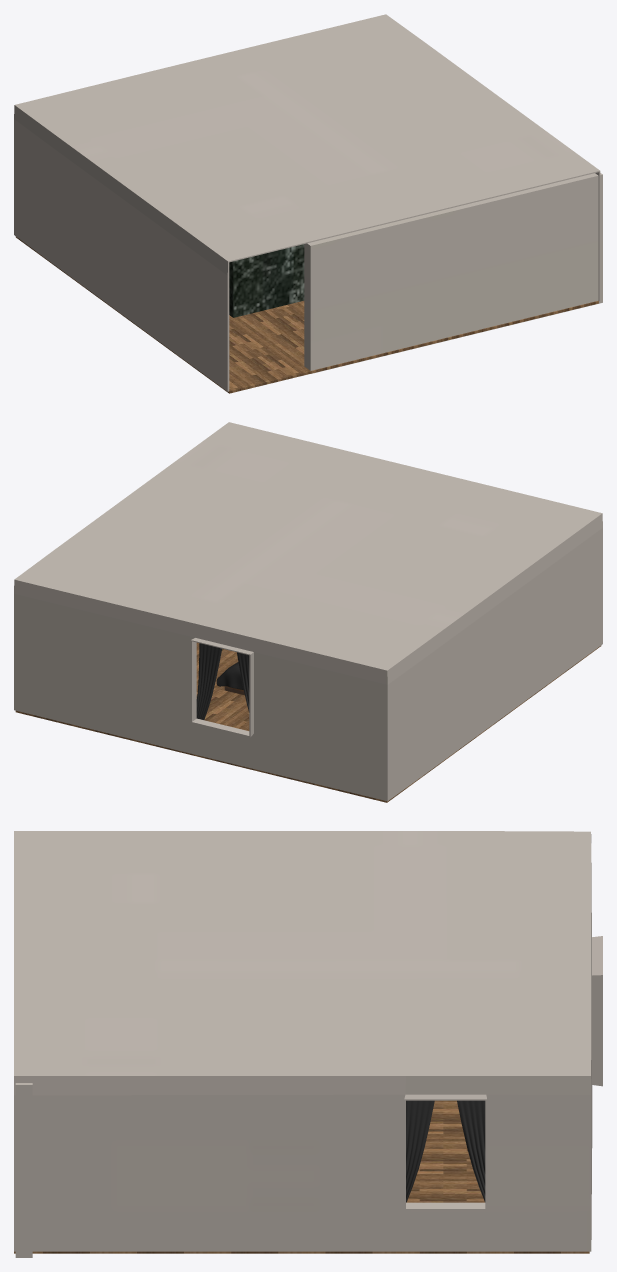
File: room-opt.glb
3 renders of one model, top to bottom at view 1: azimuth 30°, elevation 25°; view 2: azimuth 150°, elevation 25°; view 3: azimuth 270°, elevation 25°, orthographic. The views are drawn at different scales.
Visible parts, largest first — view 1: Walls, Wall_outside, Floor, Wall_marble; view 2: Walls, Floor, Curtain 2; view 3: Walls, Floor, Curtain 1, Wall_outside.
Part boxes in pixels (left/top/right/bottom): Walls: left=14, top=14, right=600, bottom=391; Wall_outside: left=304, top=173, right=602, bottom=373; Floor: left=15, top=236, right=598, bottom=393; Wall_marble: left=229, top=244, right=304, bottom=317; Walls: left=14, top=422, right=602, bottom=801; Floor: left=15, top=642, right=601, bottom=802; Curtain 2: left=196, top=643, right=249, bottom=719; Walls: left=14, top=831, right=602, bottom=1251; Floor: left=14, top=1100, right=589, bottom=1253; Curtain 1: left=406, top=1100, right=485, bottom=1202; Wall_outside: left=15, top=1083, right=32, bottom=1257.
Bounding box in the file's own units: 1235 × 413 × 1227.
25 materials, 23 textured.
